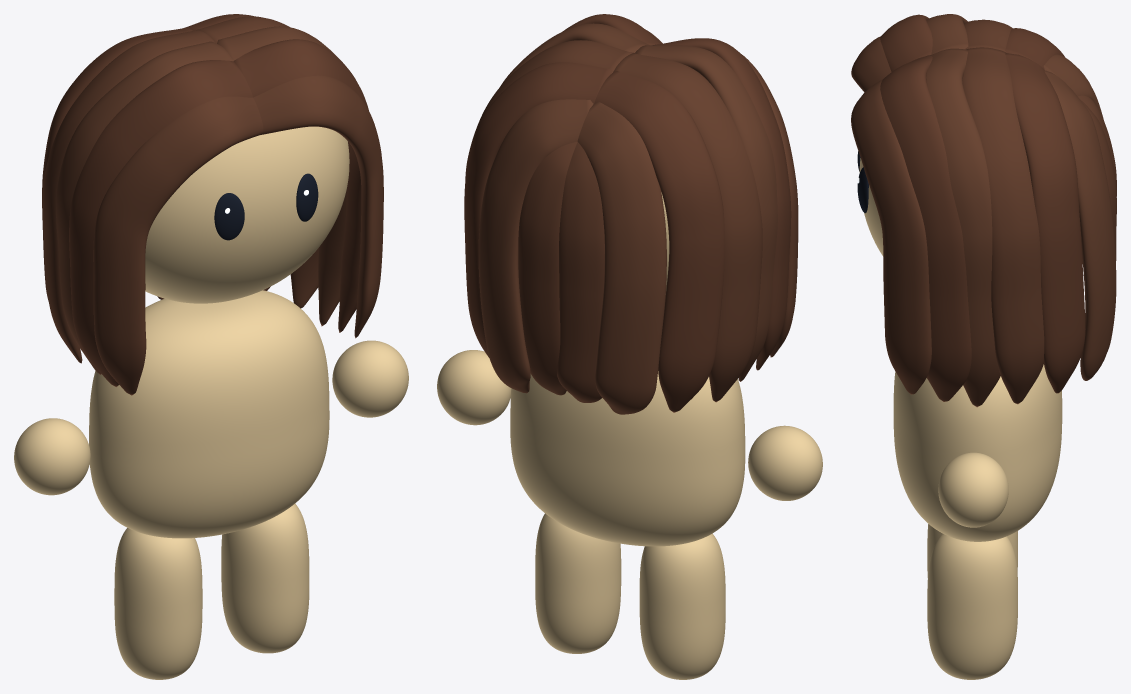
Rendered from Feminine-skin1.glb.
3 views of the same model, side by side, from view 1: azimuth 30°, elevation 25°; view 2: azimuth 150°, elevation 25°; view 3: azimuth 270°, elevation 25° (orthographic). The views are drawn at different scales.
Parts seen in each view (by area): view 1: Skin / compact torso with skirt outline, Skin / soft oval head, Hair / Straight -1 0, Hair / Straight -1 1, Skin / leg -1, Skin / leg 1, Hair / Straight 1 0, Hair / Straight 1 1, Hair / Straight -1 2, Hair / Straight -1 3, Skin / hand 1, Skin / hand -1 (+5 smaller); view 2: Skin / compact torso with skirt outline, Hair / Straight -1 4, Hair / Straight -1 5, Hair / Straight -1 3, Hair / Straight 1 5, Skin / leg -1, Hair / Straight -1 6, Skin / leg 1, Hair / Straight 1 6, Hair / Straight 1 4, Hair / Straight -1 2, Hair / Straight -1 1 (+6 smaller); view 3: Skin / compact torso with skirt outline, Hair / Straight 1 3, Hair / Straight 1 4, Hair / Straight 1 1, Hair / Straight 1 0, Skin / leg 1, Hair / Straight 1 2, Hair / Straight 1 5, Skin / hand 1, Hair / Straight -1 1, Hair / Straight -1 0, Hair / Straight -1 4 (+7 smaller).
Part boxes in pixels (x1,y1,x2,y2): Skin / compact torso with skirt outline: (89,290,329,538); Skin / soft oval head: (145,126,349,303); Hair / Straight -1 0: (93,96,263,395); Hair / Straight -1 1: (69,60,252,386); Skin / leg -1: (114,528,202,679); Skin / leg 1: (221,503,309,653); Hair / Straight 1 0: (253,75,383,338); Hair / Straight 1 1: (233,39,368,332); Hair / Straight -1 2: (56,41,233,374); Hair / Straight -1 3: (42,30,214,363); Skin / hand 1: (332,340,408,417); Skin / hand -1: (14,418,90,495); Skin / compact torso with skirt outline: (510,371,745,546); Hair / Straight -1 4: (594,71,724,412); Hair / Straight -1 5: (577,101,666,414); Hair / Straight -1 3: (613,53,762,402); Hair / Straight 1 5: (478,99,593,393); Skin / leg -1: (639,533,725,679); Hair / Straight -1 6: (557,142,604,402); Skin / leg 1: (535,513,621,653); Hair / Straight 1 6: (518,141,577,395); Hair / Straight 1 4: (464,62,612,357); Hair / Straight -1 2: (635,45,777,381); Hair / Straight -1 1: (653,38,791,370); Skin / compact torso with skirt outline: (893,364,1062,541); Hair / Straight 1 3: (962,47,1044,404); Hair / Straight 1 4: (1005,53,1085,393); Hair / Straight 1 1: (880,55,971,401); Hair / Straight 1 0: (851,79,931,394); Skin / leg 1: (927,534,1017,679); Hair / Straight 1 2: (926,48,1000,407); Hair / Straight 1 5: (1044,70,1116,380); Skin / hand 1: (938,452,1008,527); Hair / Straight -1 1: (880,14,932,71); Hair / Straight -1 0: (851,36,891,92); Hair / Straight -1 4: (1005,28,1082,263).
Bounding box in the file's own units: 1.49 × 2.31 × 0.9206.
